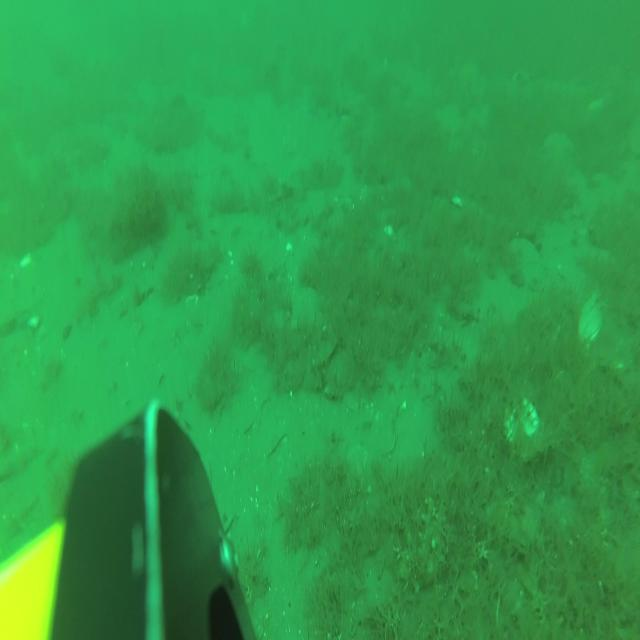scallop: (504, 396, 538, 458), (578, 291, 602, 350), (509, 235, 539, 280), (133, 244, 153, 270), (185, 291, 199, 316)
starfish: (542, 130, 574, 160)
